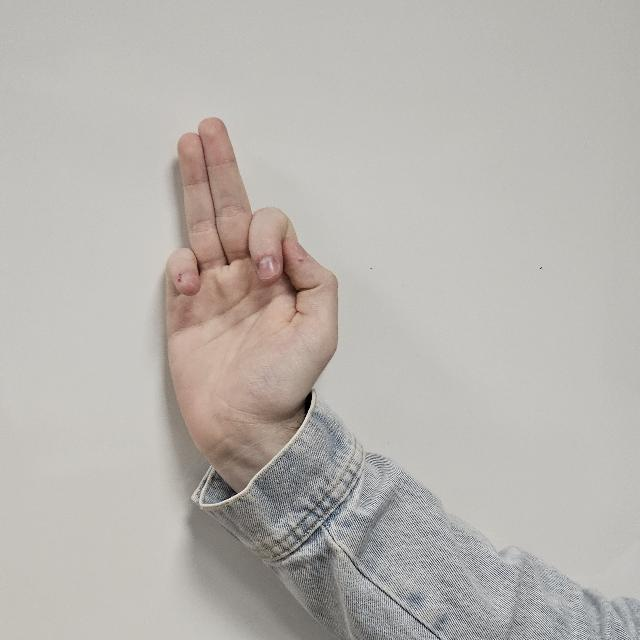R: (158, 118, 340, 464)
